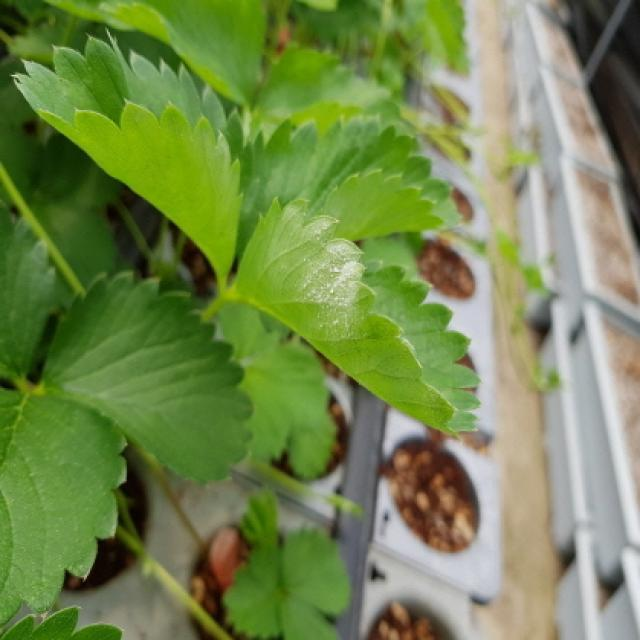powdery_mildew_leaf: (234, 193, 484, 441)
